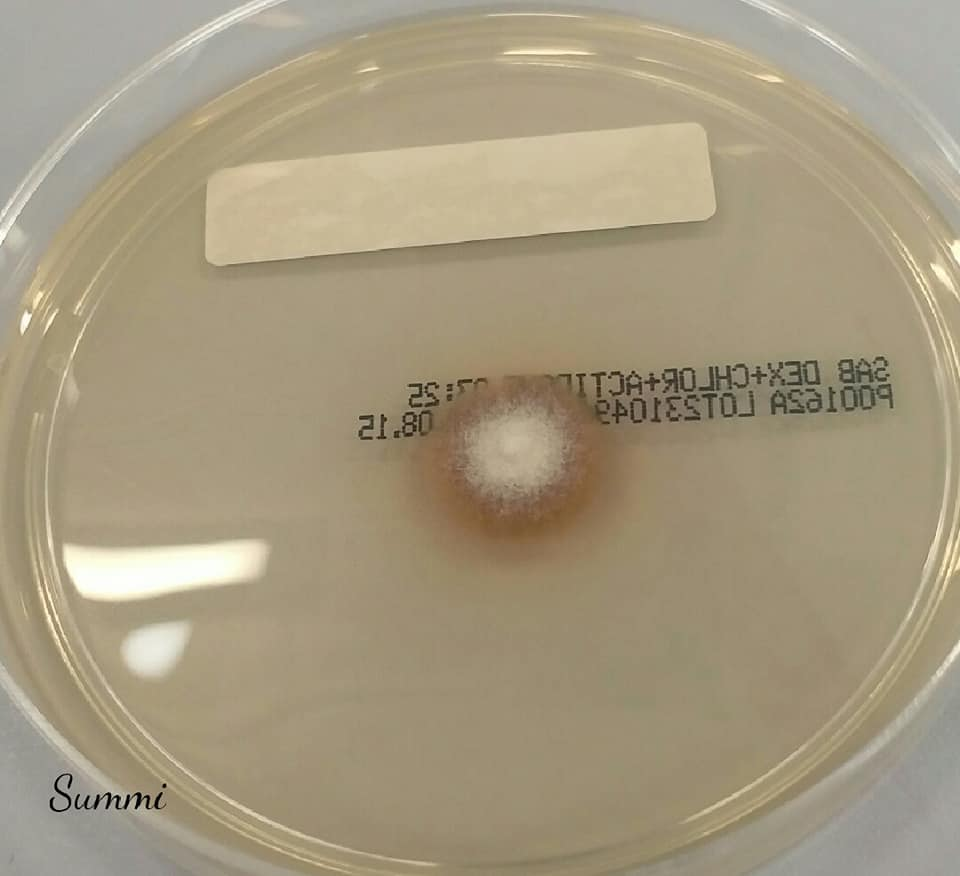Trichophyton: (466, 385, 574, 504)
